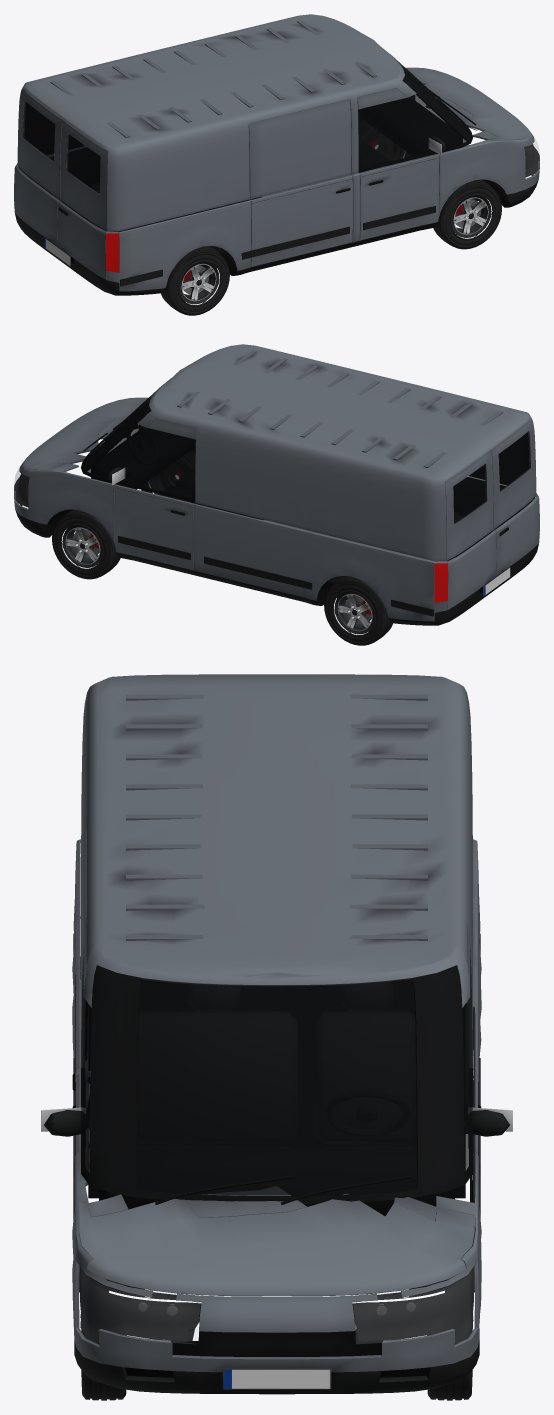
The model's file is van-lo-v1.glb.
The picture shows the model from 3 angles, top to bottom: view 1: azimuth 30°, elevation 25°; view 2: azimuth 150°, elevation 25°; view 3: azimuth 270°, elevation 25°; orthographic projection. The views are drawn at different scales.
Visible parts, largest first — view 1: body_geo, slide_door_R_panel_geo, interior_geo, door_FR_panel_geo, door_RR_rear_panel_geo, door_RL_rear_panel_geo, glass_FR_geo, hood_panel_geo, tyre_RR_geo, tyre_FR_geo, glass_RR_rear_geo, glass_RL_rear_geo (+5 smaller); view 2: body_geo, interior_geo, door_FL_panel_geo, door_RL_rear_panel_geo, door_RR_rear_panel_geo, glass_FL_geo, hood_panel_geo, tyre_RL_geo, tyre_FL_geo, glass_RL_rear_geo, glass_RR_rear_geo, rim_RL_geo (+5 smaller); view 3: body_geo, interior_geo, glass_front_geo, hood_panel_geo, lights_front_geo, glass_QL_geo, glass_QR_geo, slide_door_R_panel_geo, mirror_L_geo, mirror_R_geo, door_FL_panel_geo, tyre_FR_geo (+1 smaller).
Part boxes in pixels (<box>): body_geo: <box>14,14,539,295</box>; slide_door_R_panel_geo: <box>248,99,352,266</box>; interior_geo: <box>19,94,462,254</box>; door_FR_panel_geo: <box>357,88,439,240</box>; door_RR_rear_panel_geo: <box>57,120,108,279</box>; door_RL_rear_panel_geo: <box>14,88,62,246</box>; glass_FR_geo: <box>358,98,442,169</box>; hood_panel_geo: <box>405,67,533,141</box>; tyre_RR_geo: <box>161,246,229,315</box>; tyre_FR_geo: <box>433,179,501,249</box>; glass_RR_rear_geo: <box>66,134,100,193</box>; glass_RL_rear_geo: <box>23,101,55,161</box>; body_geo: <box>14,344,539,625</box>; interior_geo: <box>91,425,534,584</box>; door_FL_panel_geo: <box>114,418,196,570</box>; door_RL_rear_panel_geo: <box>445,450,496,609</box>; door_RR_rear_panel_geo: <box>491,418,539,576</box>; glass_FL_geo: <box>111,428,195,499</box>; hood_panel_geo: <box>20,397,148,471</box>; tyre_RL_geo: <box>324,576,392,645</box>; tyre_FL_geo: <box>52,509,120,579</box>; glass_RL_rear_geo: <box>453,464,487,523</box>; glass_RR_rear_geo: <box>498,431,530,491</box>; rim_RL_geo: <box>334,591,374,634</box>; body_geo: <box>72,674,481,1394</box>; interior_geo: <box>79,956,474,1333</box>; glass_front_geo: <box>136,978,417,1195</box>; hood_panel_geo: <box>79,1193,474,1296</box>; lights_front_geo: <box>76,1264,477,1345</box>; glass_QL_geo: <box>462,998,472,1175</box>; glass_QR_geo: <box>81,998,91,1175</box>; slide_door_R_panel_geo: <box>74,819,87,1104</box>; mirror_L_geo: <box>464,1107,512,1136</box>; mirror_R_geo: <box>41,1107,89,1136</box>; door_FL_panel_geo: <box>467,926,479,1202</box>; tyre_FR_geo: <box>81,1278,126,1400</box>.
Bounding box in the file's own units: 5.01 × 1.97 × 2.25.
Materials: 25 (1 with a texture image).
